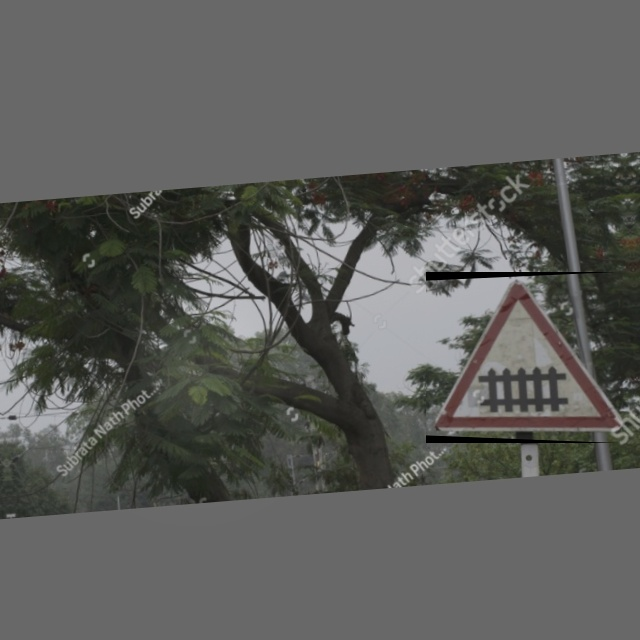Guarded_Level_Crossing: (426, 272, 618, 443)
